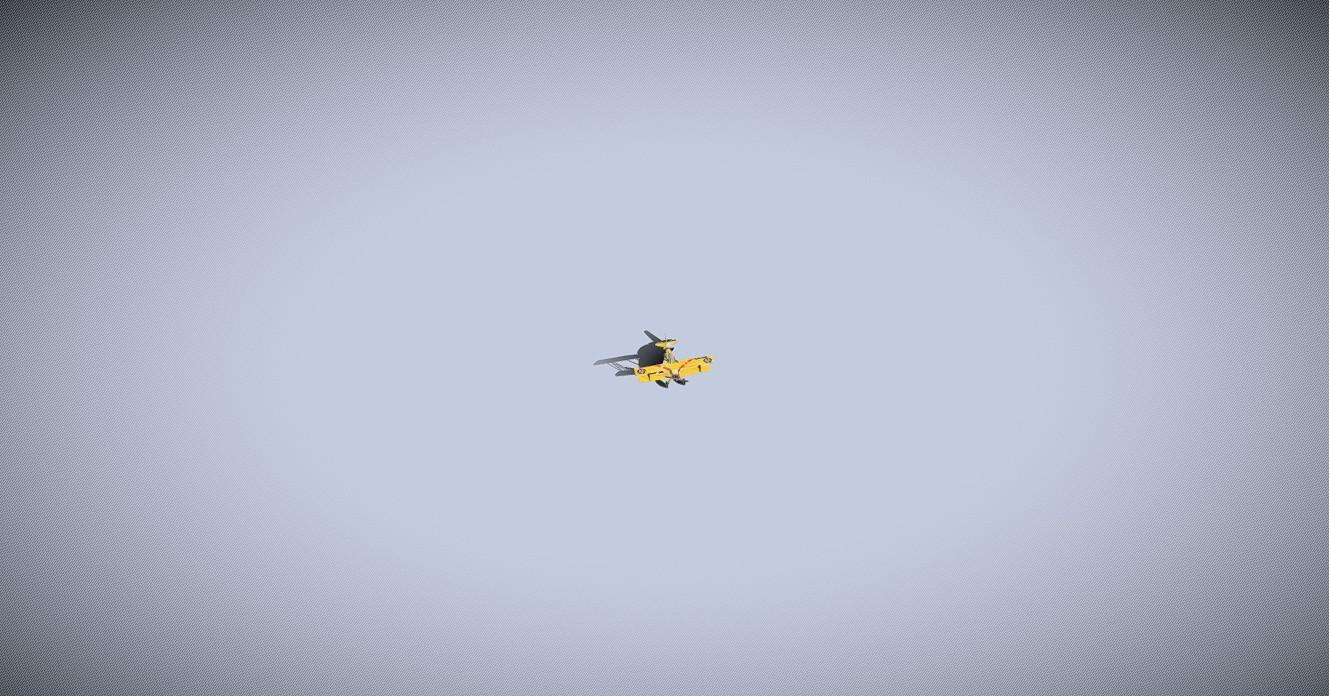Airplane: (592, 328, 713, 388)
